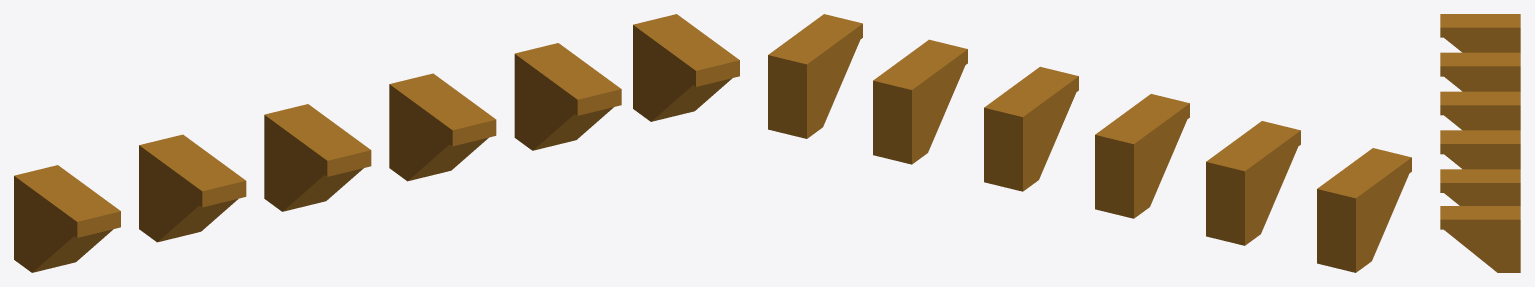
File: SM_roof_cresting_03.fbx
3 renders of one model, left to right at view 1: azimuth 30°, elevation 25°; view 2: azimuth 150°, elevation 25°; view 3: azimuth 270°, elevation 25°, orthographic. The views are drawn at different scales.
Visible parts, largest first — view 1: Object33146; view 2: Object33146; view 3: Object33146.
Part boxes in pixels (left/top/right/bottom): Object33146: left=14, top=14, right=739, bottom=272; Object33146: left=768, top=14, right=1411, bottom=272; Object33146: left=1440, top=14, right=1520, bottom=272.
Size of the model in its own units: 153 by 18.54 by 25.26.
